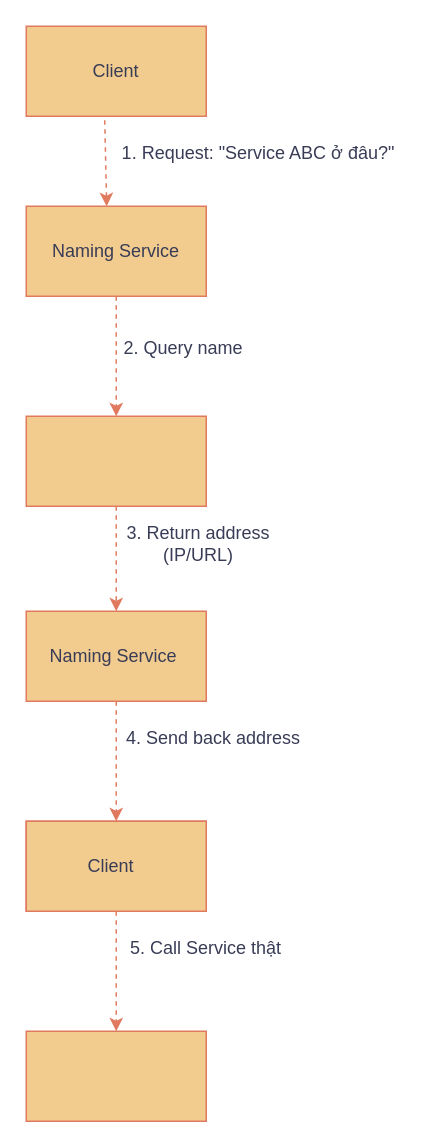
Image size: 428x1148. Some labels were removed from this diagram. Each missing label, with the centre of its shape:
Database: the point at 115,460
Service ABC: the point at 115,1075
